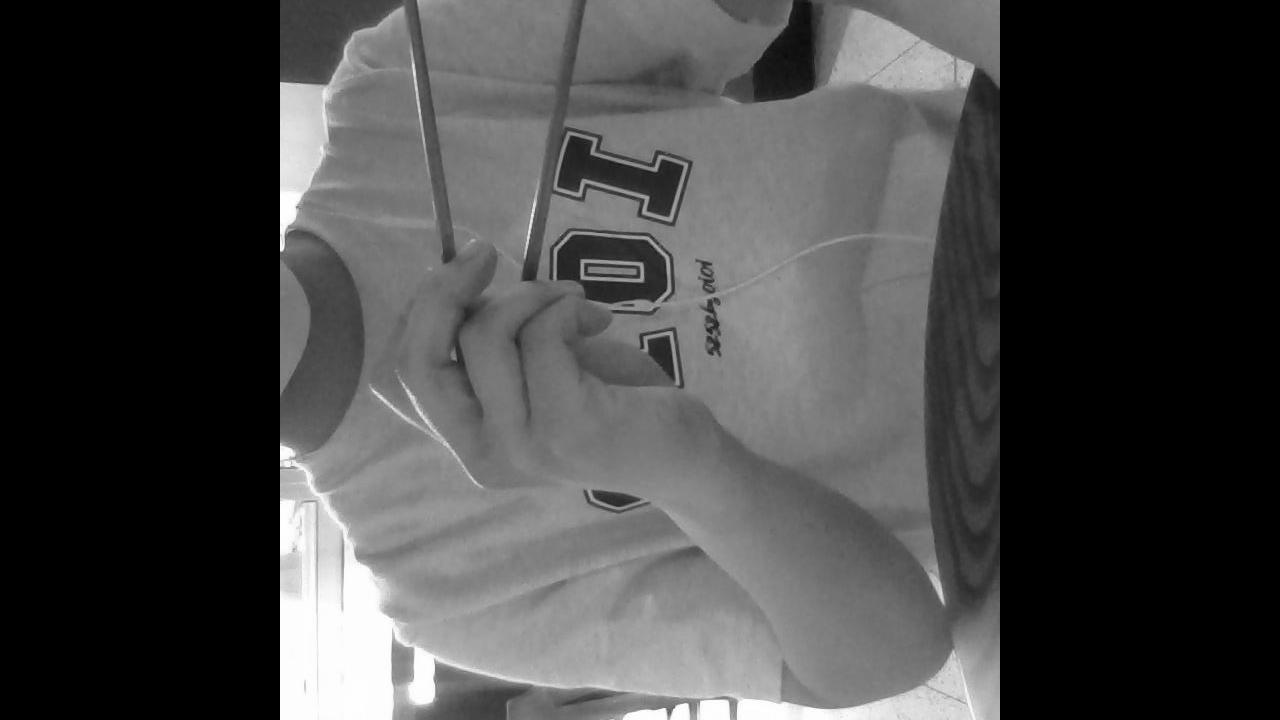chopstick: (520, 0, 592, 279), (393, 0, 456, 259)
hand: (369, 235, 706, 501)
